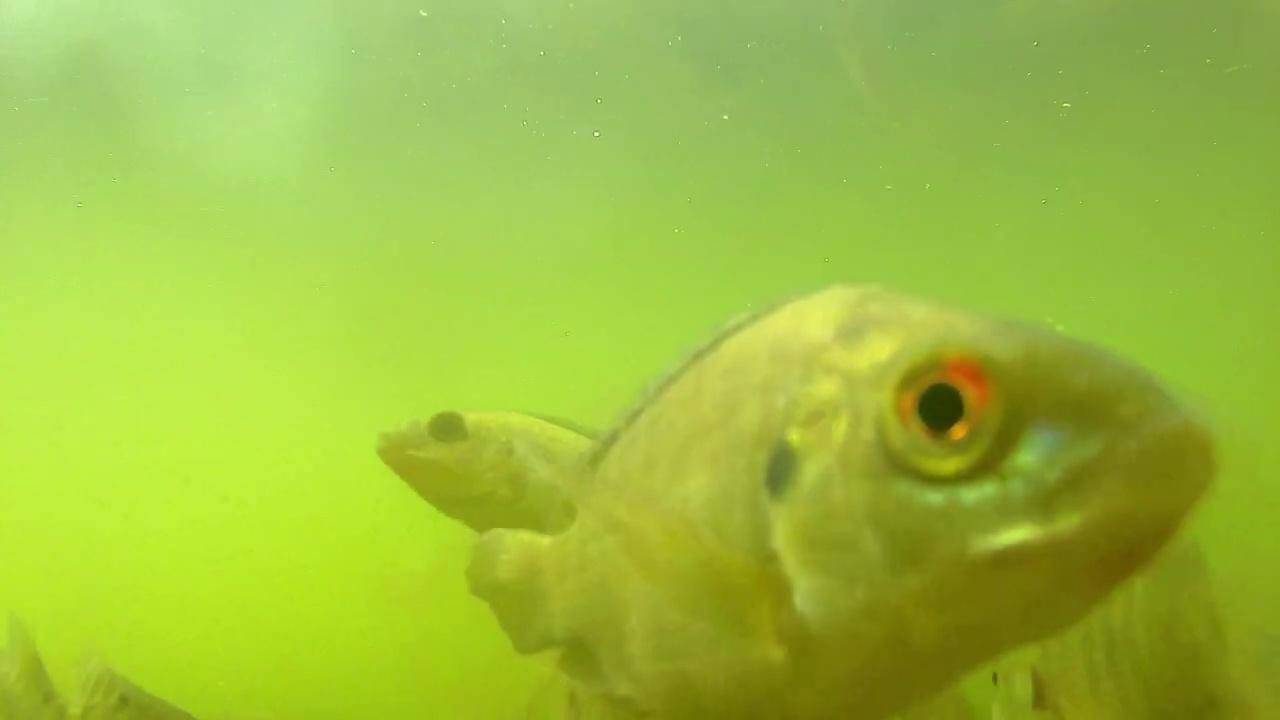Tilapia: (479, 276, 1216, 720), (371, 394, 604, 542)
